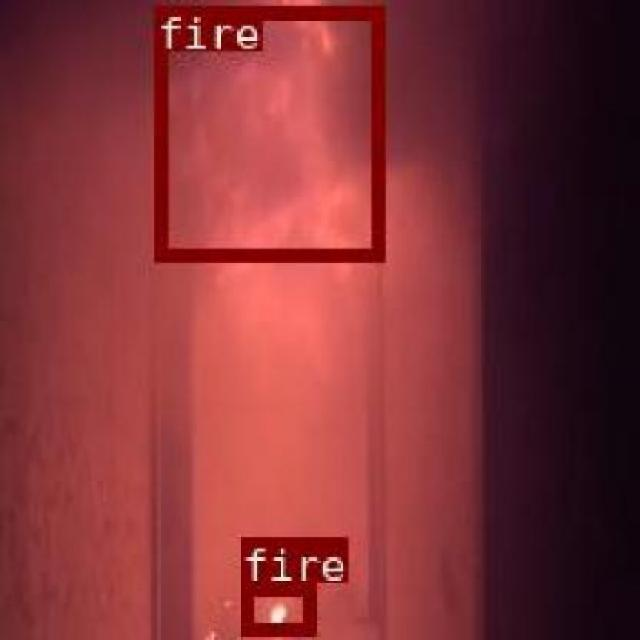Fire: (153, 4, 382, 260), (239, 580, 313, 634)
